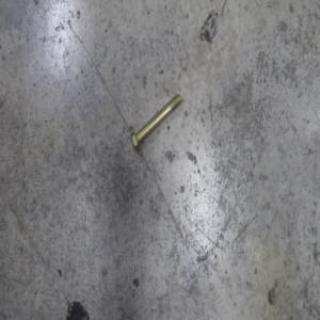Bolttrack_idkeyframe: (131, 90, 184, 152)
